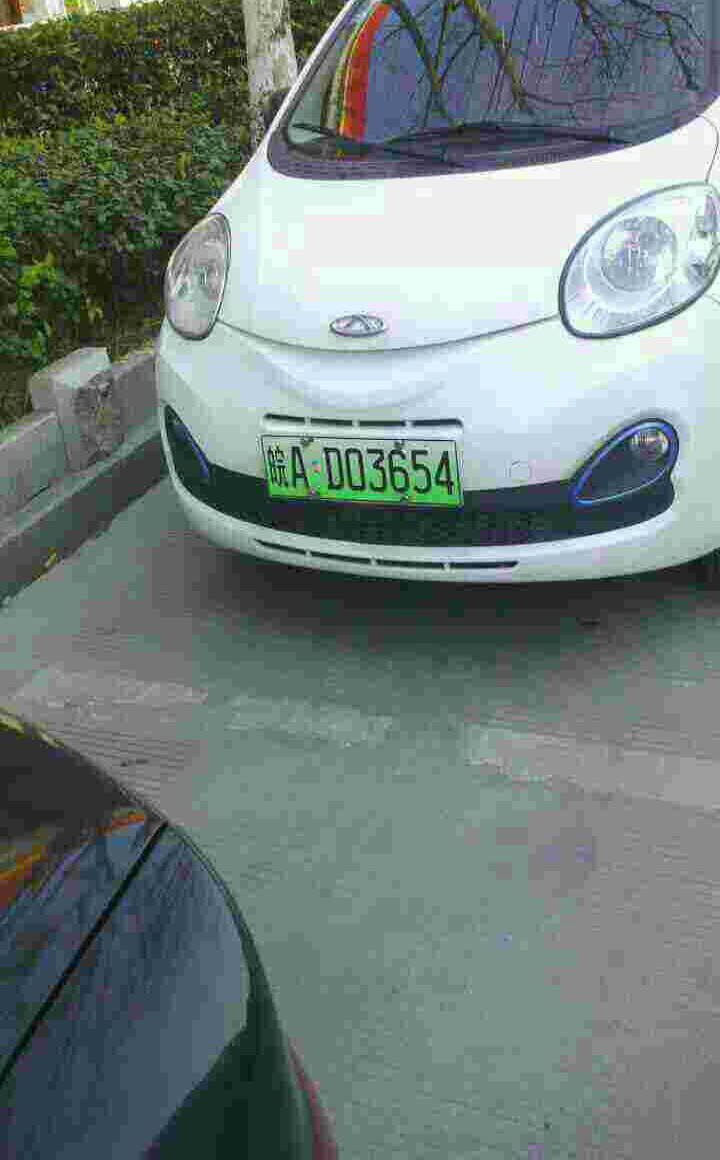car_id: (262, 433, 460, 504)
